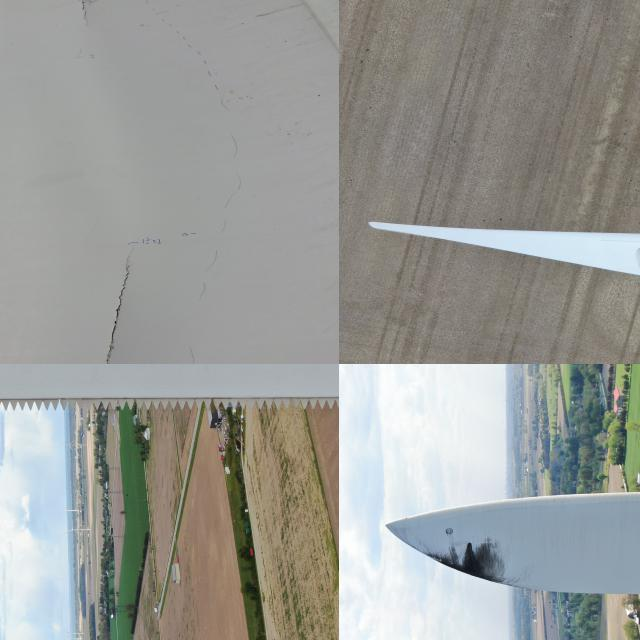damage: (33, 236, 158, 363), (419, 536, 523, 592), (54, 0, 124, 56)
